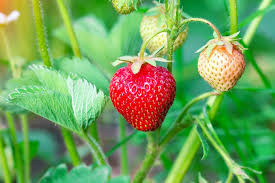ripe: (106, 62, 182, 135)
unripe: (194, 40, 245, 96), (138, 7, 191, 55), (109, 0, 147, 16)
